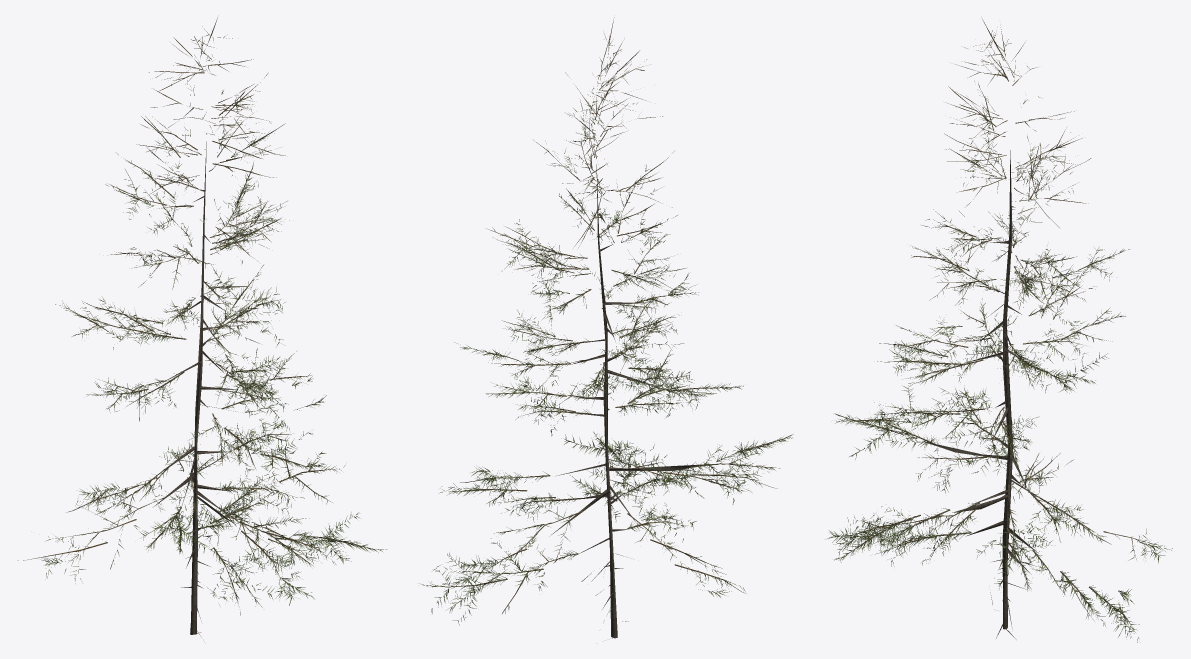
File: fir_b.glb
The picture shows the model from 3 angles, left to right: view 1: azimuth 30°, elevation 25°; view 2: azimuth 150°, elevation 25°; view 3: azimuth 270°, elevation 25°; orthographic projection. The views are drawn at different scales.
Visible parts, largest first — view 1: fir_sapling_medium_b_LOD0; view 2: fir_sapling_medium_b_LOD0; view 3: fir_sapling_medium_b_LOD0.
Boxes of the visible parts, x1,y1,x2,y2 form: fir_sapling_medium_b_LOD0: (18,17,386,637); fir_sapling_medium_b_LOD0: (419,17,793,638); fir_sapling_medium_b_LOD0: (825,19,1172,642).
Size of the model in its own units: 4.11 by 7.65 by 3.89.
3 materials, 3 textured.
